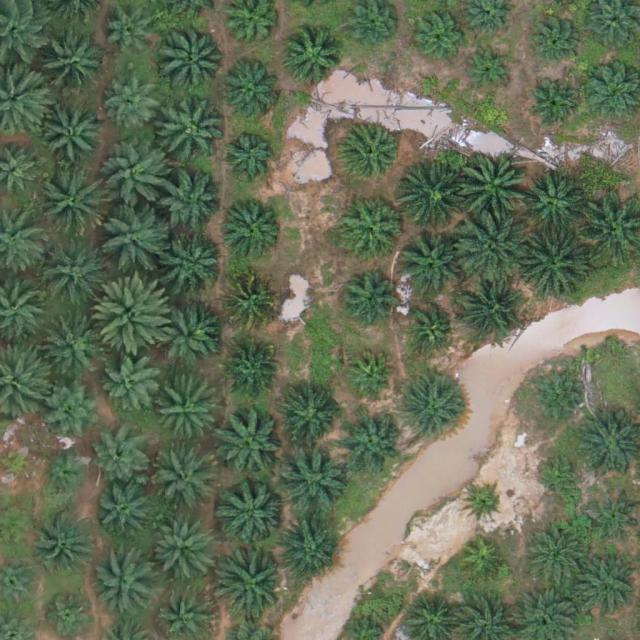Healthy: (96, 277, 174, 356), (517, 230, 588, 301), (97, 201, 168, 272), (35, 31, 106, 102), (216, 408, 287, 478), (219, 477, 289, 548), (218, 547, 288, 618), (36, 168, 107, 238), (397, 164, 467, 235), (160, 23, 230, 94), (156, 95, 227, 165), (460, 214, 530, 284), (278, 443, 348, 513), (39, 238, 109, 308), (459, 154, 529, 224), (102, 142, 172, 212), (397, 233, 460, 296), (402, 379, 465, 442), (574, 558, 637, 621), (277, 519, 340, 582), (222, 196, 285, 259), (164, 233, 227, 296), (155, 381, 218, 444), (152, 451, 215, 514), (42, 377, 105, 440), (220, 62, 283, 125), (459, 279, 521, 342), (344, 412, 406, 475), (150, 519, 212, 582), (94, 551, 157, 613), (41, 314, 103, 377), (522, 171, 584, 234), (340, 125, 403, 187), (282, 28, 344, 91), (43, 104, 105, 167), (37, 511, 99, 574), (526, 525, 588, 587), (342, 197, 404, 259), (161, 175, 223, 237), (155, 300, 217, 362), (94, 485, 149, 541), (529, 371, 584, 426), (340, 270, 395, 325), (284, 392, 339, 447), (223, 341, 278, 396), (103, 356, 158, 411), (93, 431, 148, 486), (414, 8, 469, 63), (528, 79, 583, 134), (221, 129, 276, 184), (104, 13, 159, 68), (107, 79, 162, 134), (527, 11, 581, 66)
Small: (466, 43, 513, 91), (46, 591, 93, 638), (42, 452, 89, 499), (407, 306, 454, 353), (347, 352, 394, 399), (537, 453, 584, 500), (465, 485, 504, 524)
Yellow: (222, 274, 277, 329), (459, 539, 506, 586)
